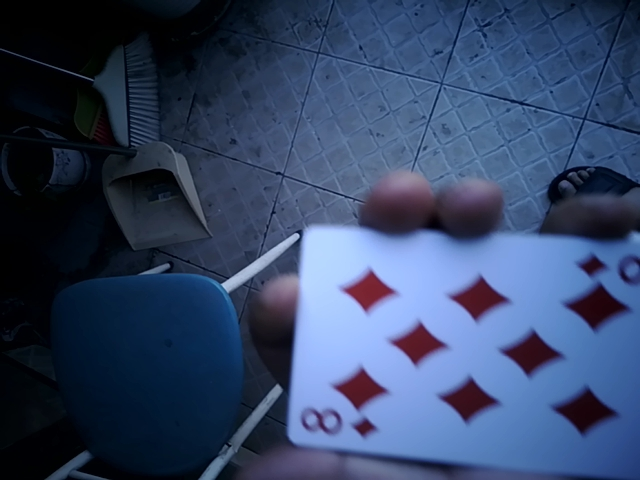fk 8: (289, 223, 640, 474)
